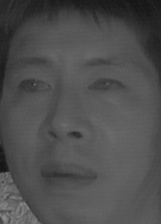eye: (14, 76, 53, 99), (87, 75, 126, 96)
mouth: (39, 156, 103, 192)
